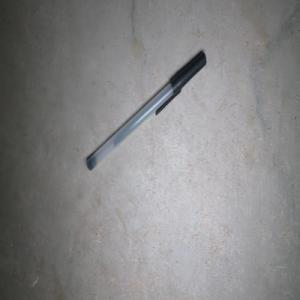Pen: (86, 51, 206, 170)
